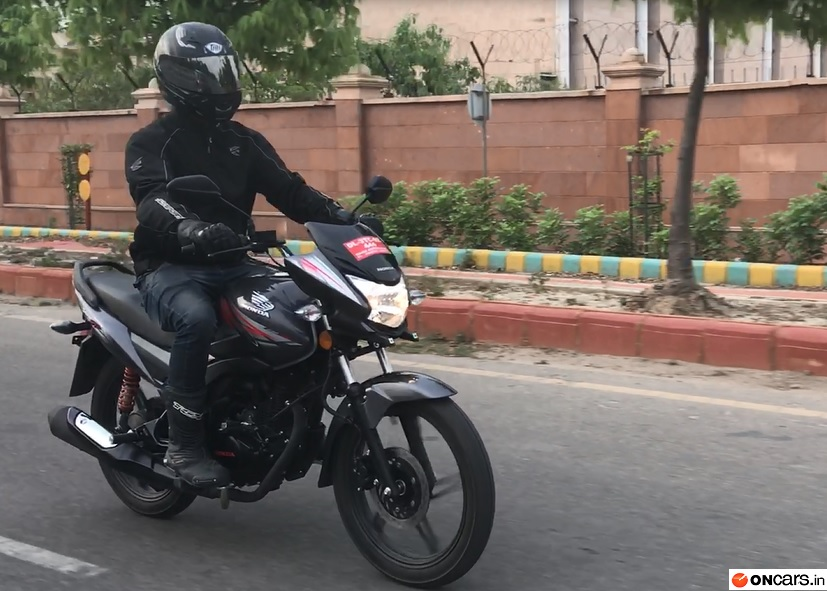helmet: (147, 28, 243, 135)
